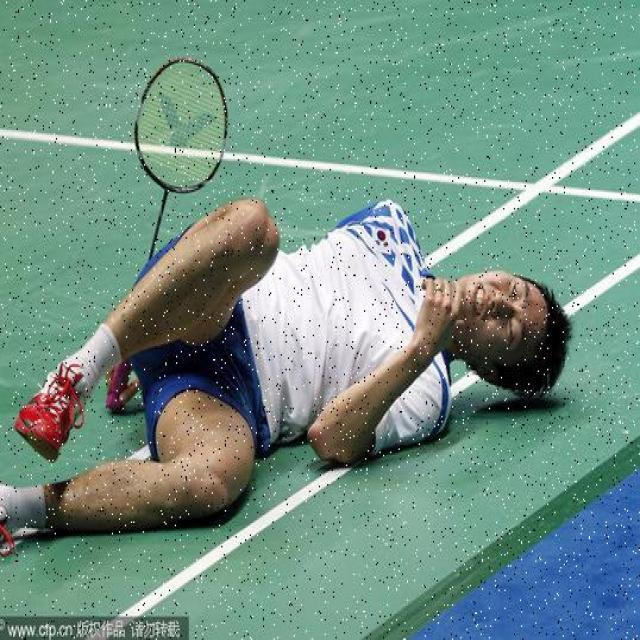fall: (0, 203, 576, 539)
